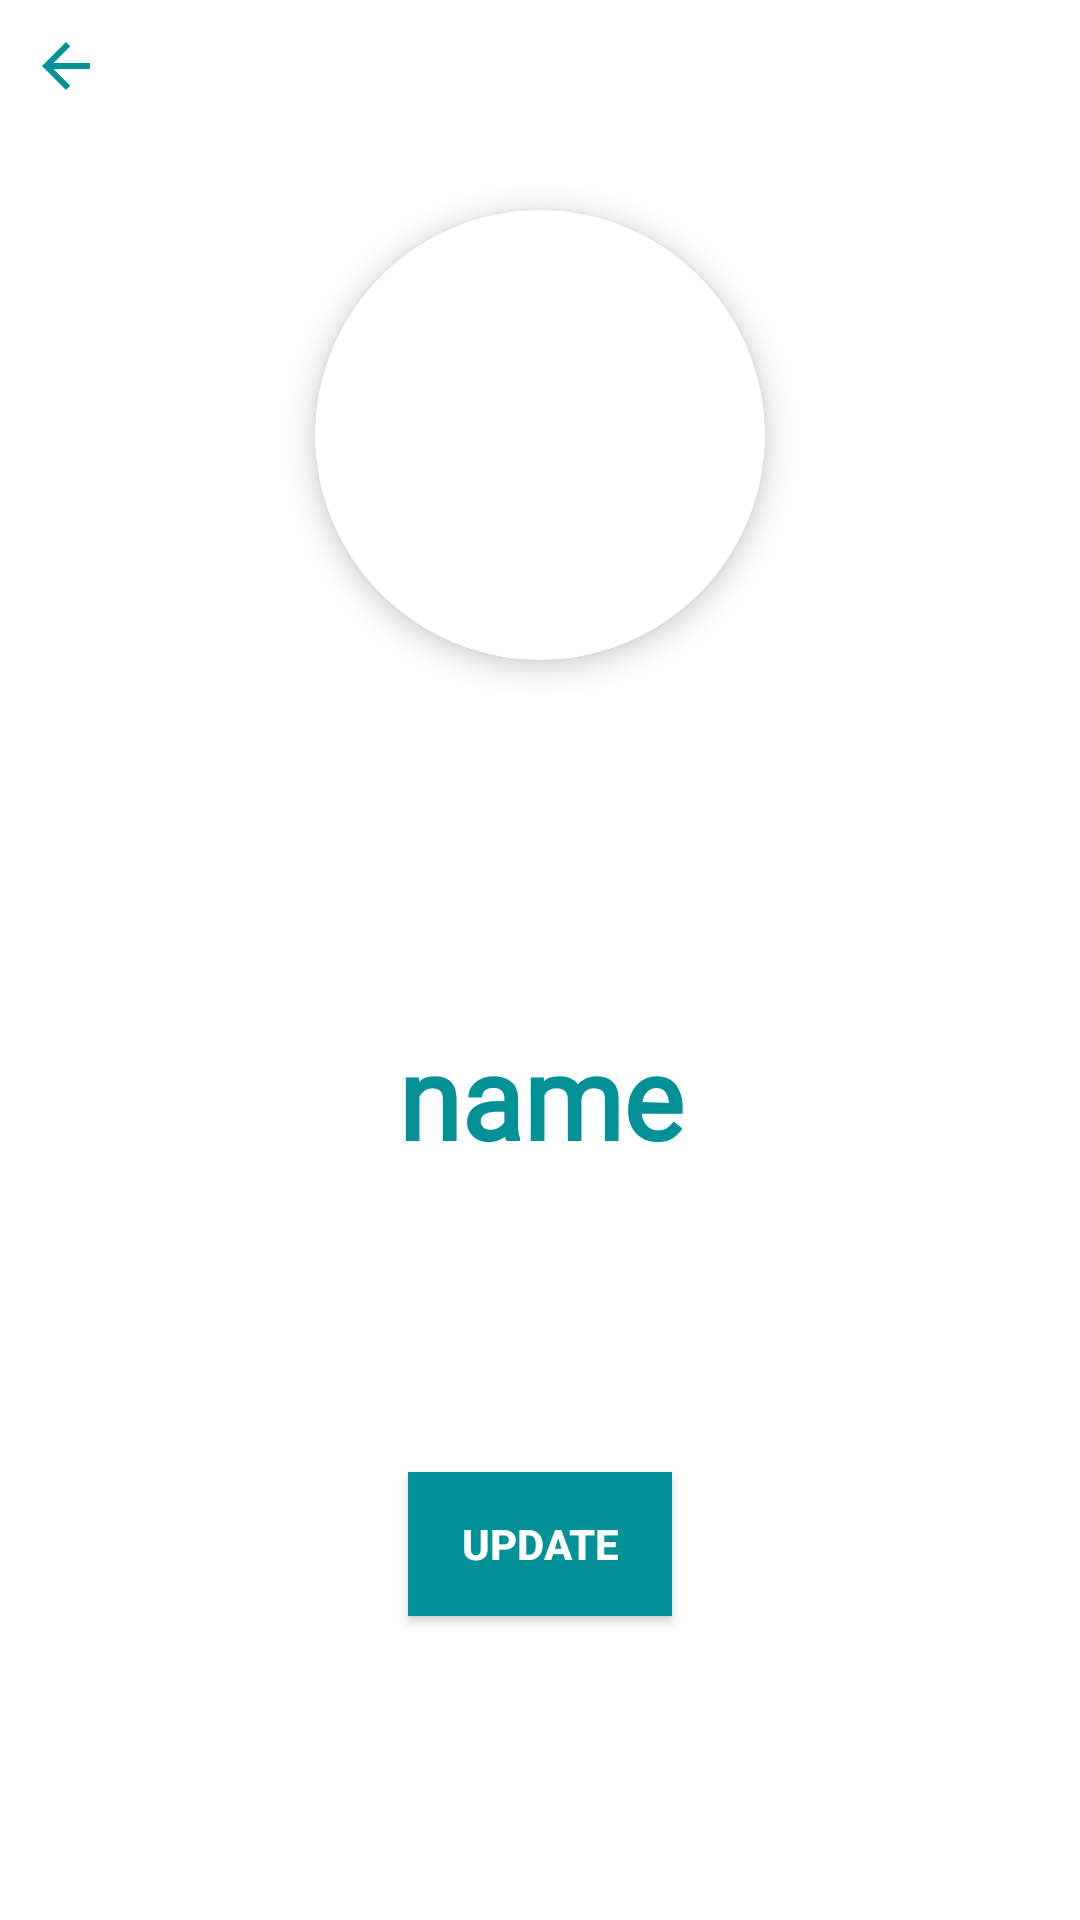

Where to tap for icons on this 1080 × 1920 app screen, as [x,y]:
backicon: [66,66]
